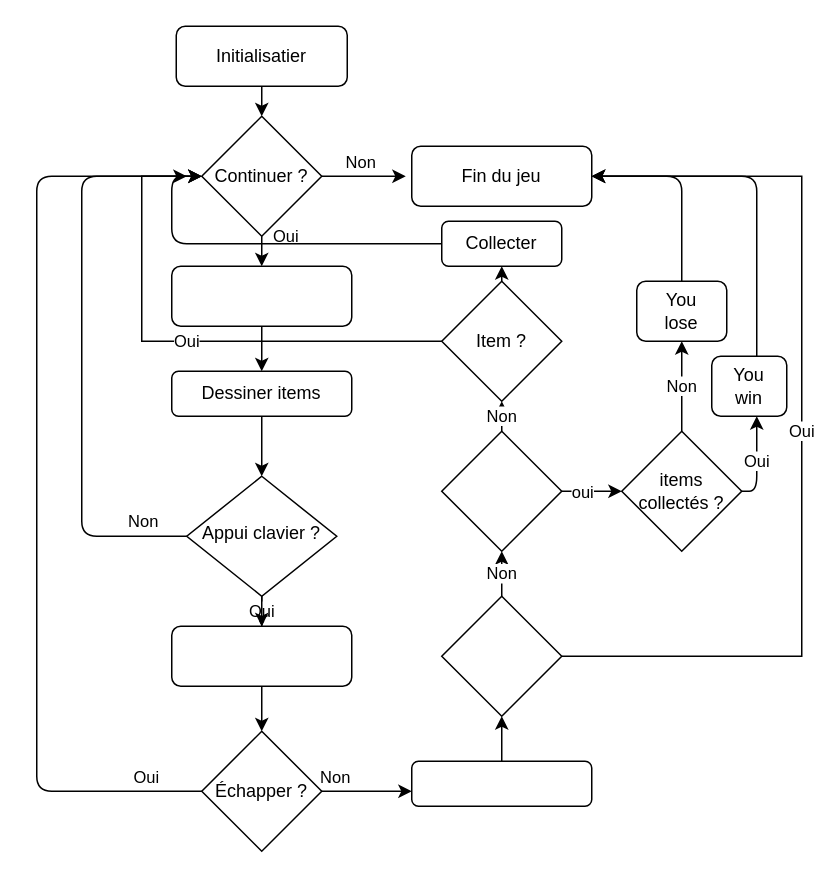
This 840x878 diagram has some shape labels left out. Here are the shapes that lost their labels. From the top down, the box of each, then its label:
(170, 265, 352, 326): Dessiner jeu
(440, 430, 562, 551): Garde ?
(170, 625, 352, 686): Lire instruction
(440, 595, 562, 716): Sortie ?
(410, 760, 592, 806): Déplacer héros
